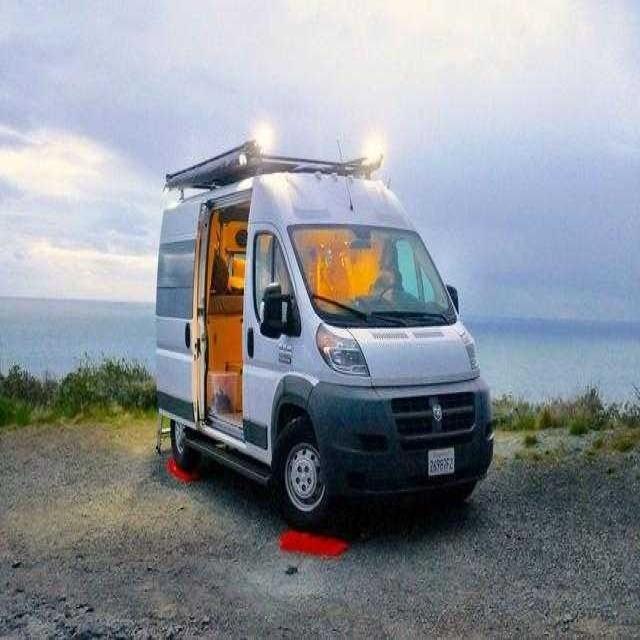Van: (156, 139, 496, 547)
